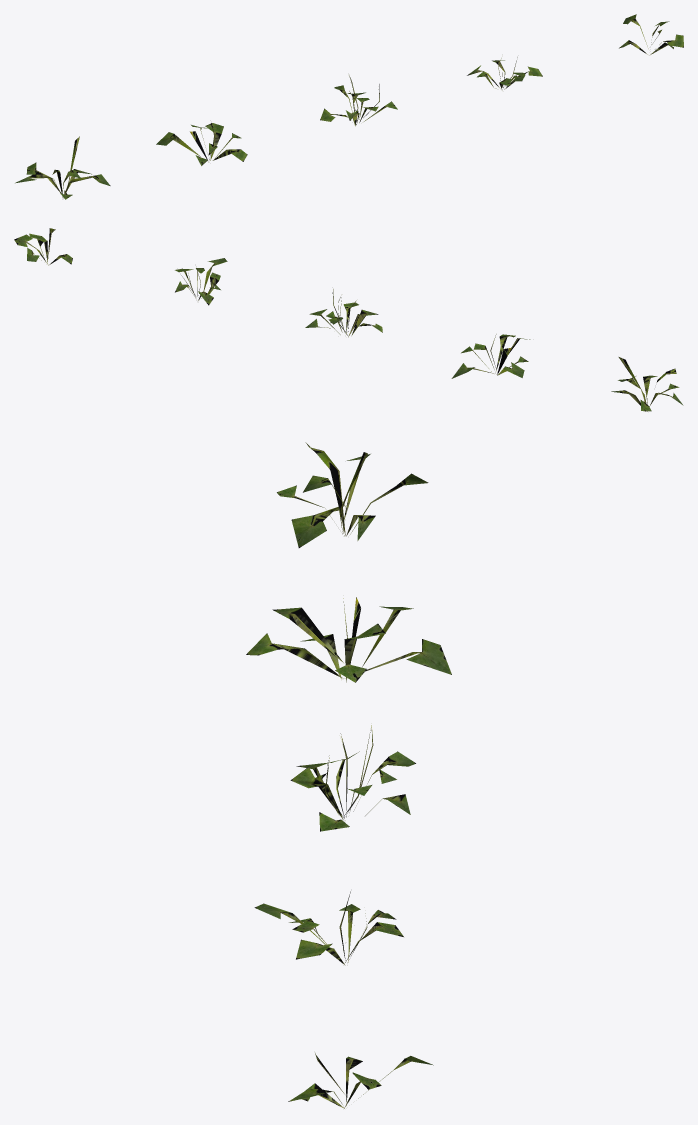
File: celandine_01.glb
3 renders of one model, top to bottom at view 1: azimuth 30°, elevation 25°; view 2: azimuth 150°, elevation 25°; view 3: azimuth 270°, elevation 25°, orthographic. The views are drawn at different scales.
Parts seen in each view (by area): view 1: celandine_01_a_LOD0; view 2: celandine_01_a_LOD0; view 3: celandine_01_a_LOD0.
Boxes of the visible parts, x1,y1,x2,y2 form: celandine_01_a_LOD0: (15,14,683,199); celandine_01_a_LOD0: (14,228,683,411); celandine_01_a_LOD0: (246,442,451,1108).
Size of the model in its own units: 2.24 by 0.1743 by 0.3051.
1 material, 1 textured.
